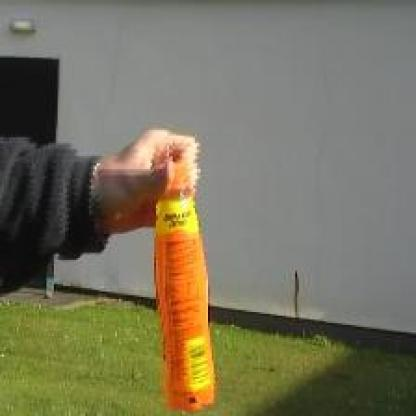other: (151, 154, 220, 404)
